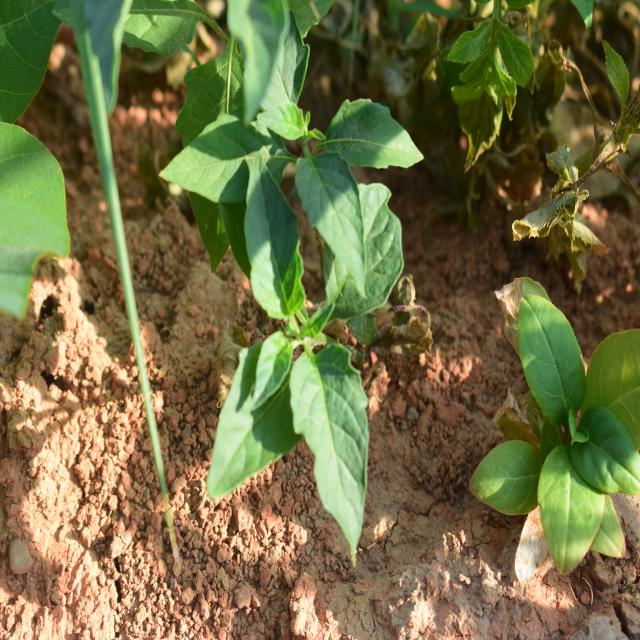Black_nightshade: (200, 177, 437, 542), (166, 0, 410, 242)
